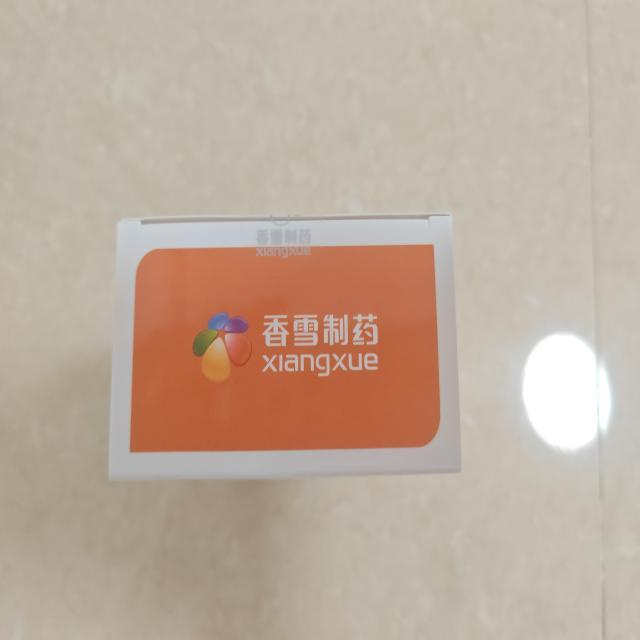box: (105, 207, 477, 499)
